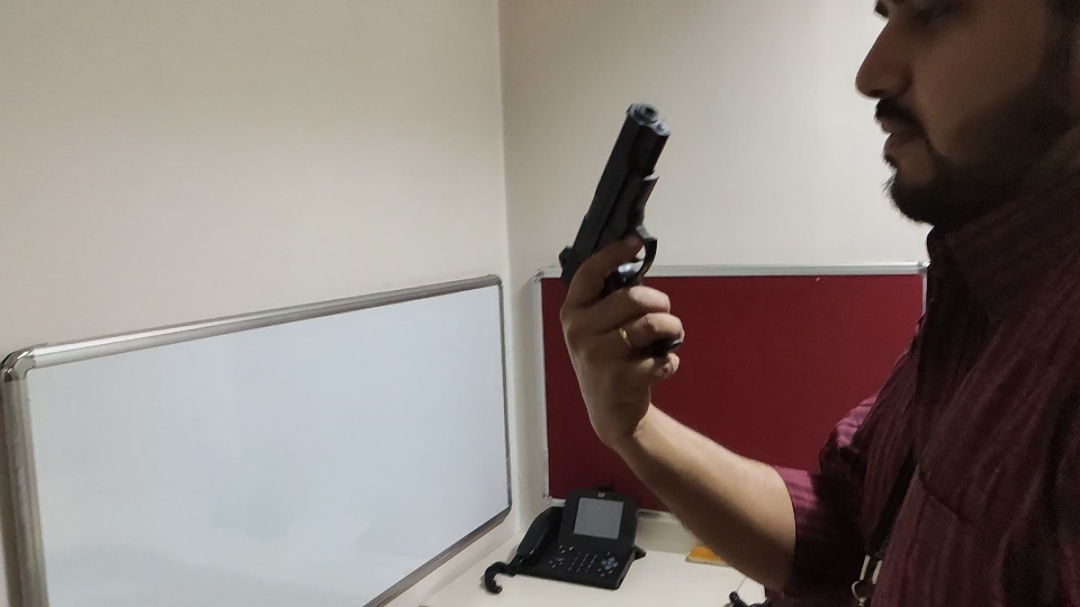gun: (244, 170, 318, 253)
